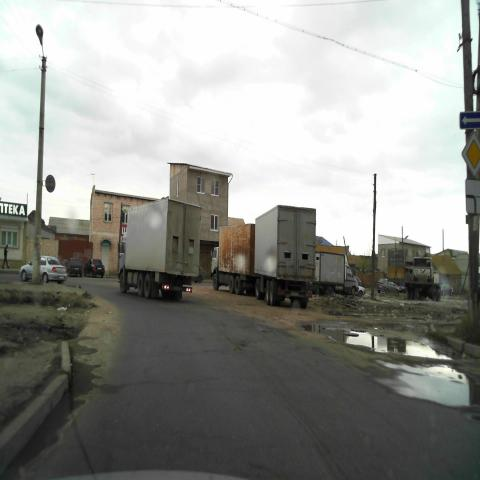5_7_2: (458, 112, 480, 128)
